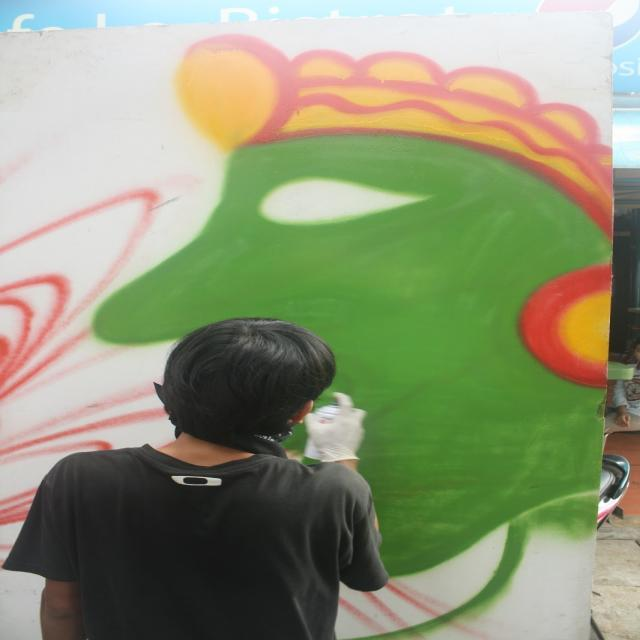-: (99, 28, 596, 640), (0, 184, 489, 640)
